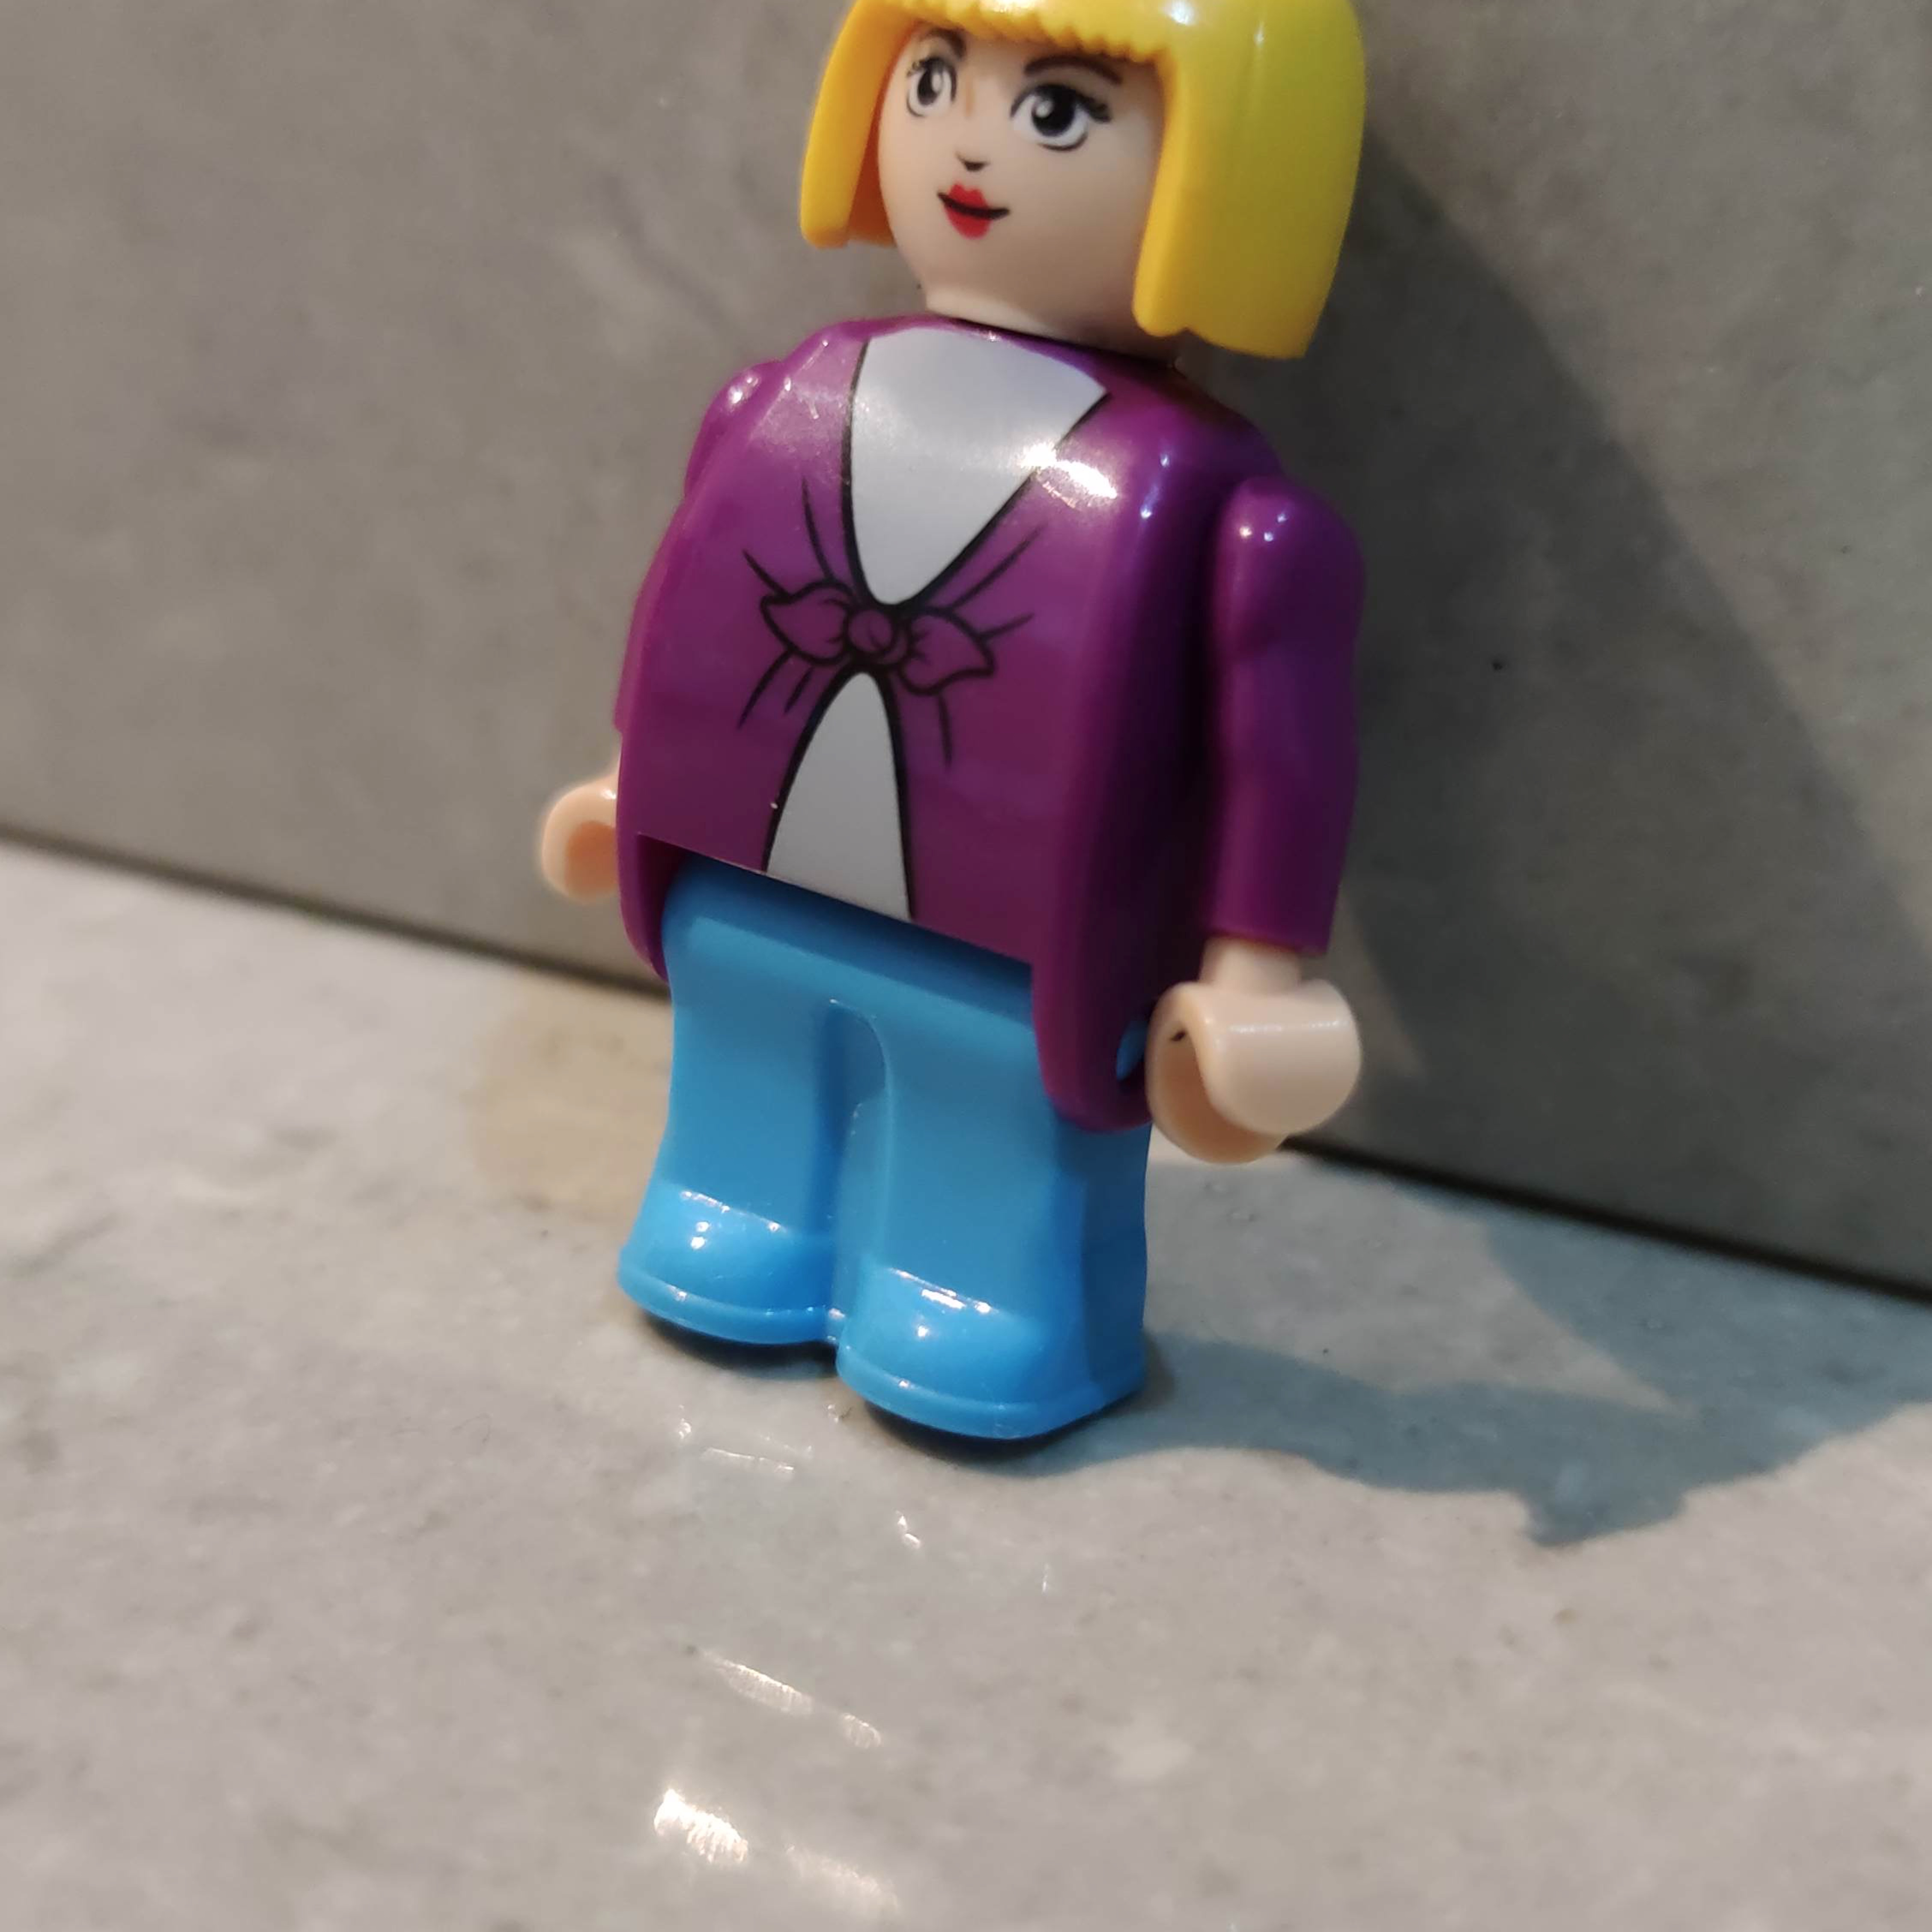lego: (534, 0, 1373, 1449)
